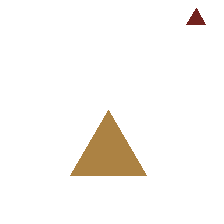triangle: (70, 110, 146, 175), (186, 8, 205, 24)
